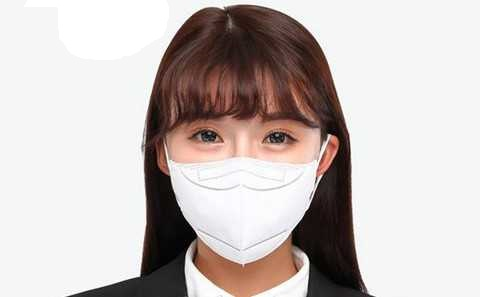face_mask: (167, 78, 320, 264)
